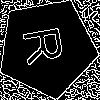R: (22, 22, 74, 67)
